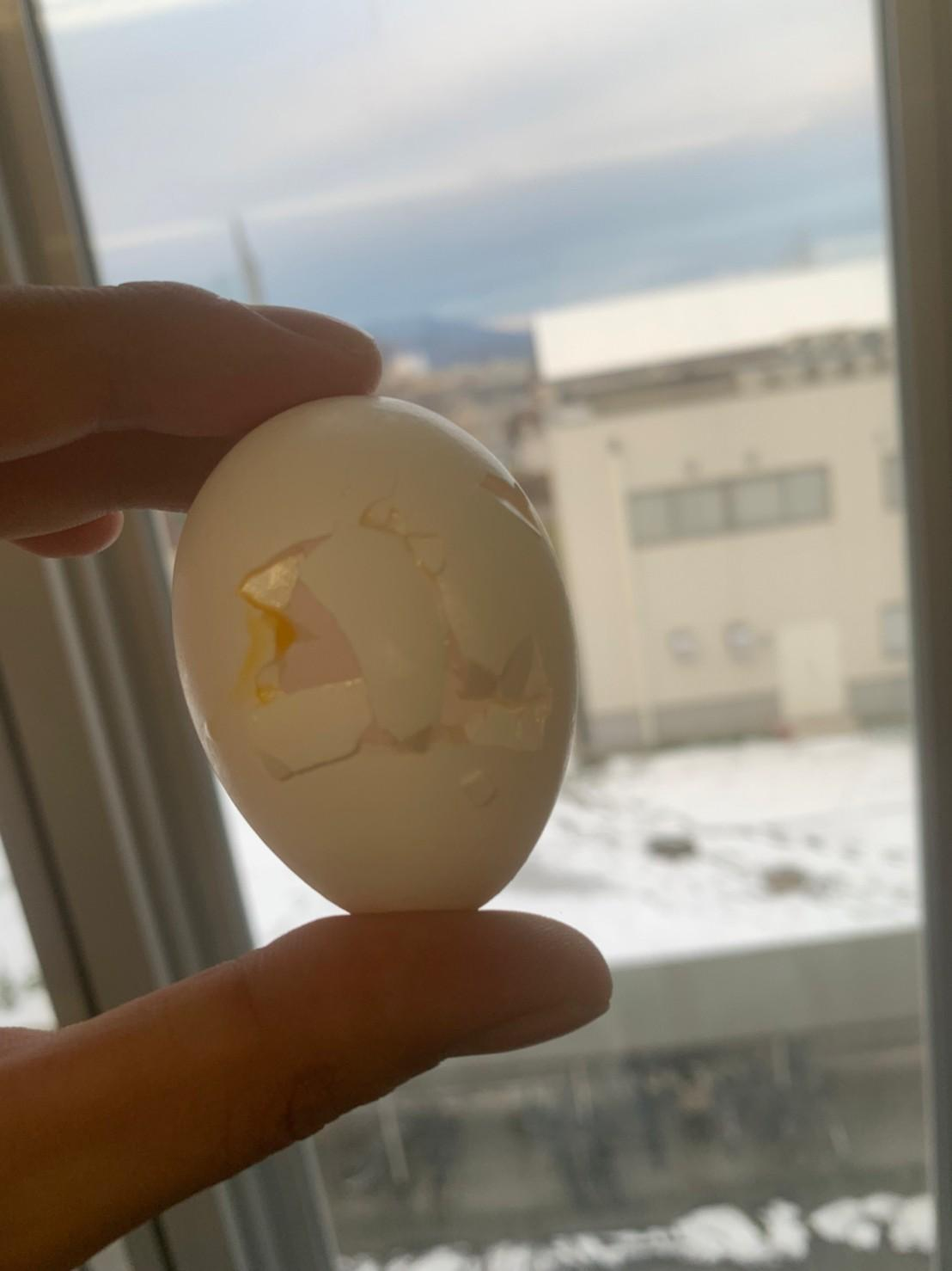egg: (168, 382, 590, 925)
